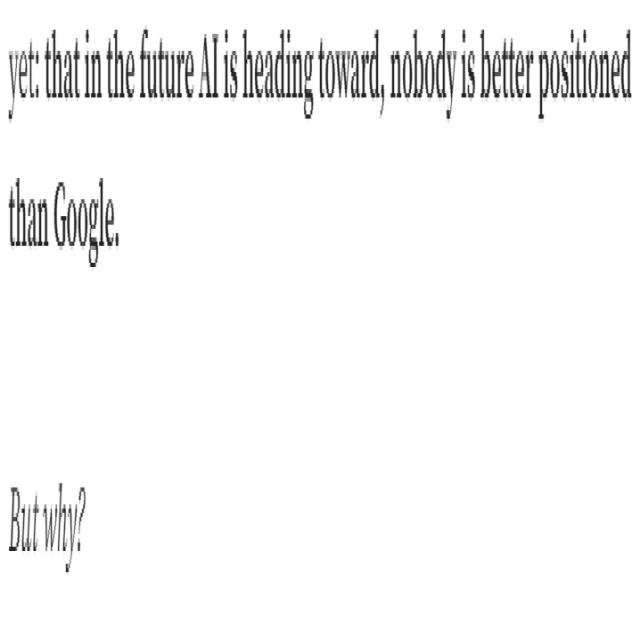word: (536, 18, 636, 127), (386, 13, 460, 125), (241, 25, 315, 136), (51, 165, 125, 272), (315, 16, 388, 123), (138, 12, 195, 130), (477, 18, 536, 125), (5, 168, 49, 284), (44, 480, 93, 578), (44, 7, 82, 116), (6, 18, 42, 123), (104, 11, 138, 118), (7, 466, 39, 576), (197, 16, 221, 118), (221, 2, 240, 125), (83, 20, 104, 123), (459, 11, 478, 118)
